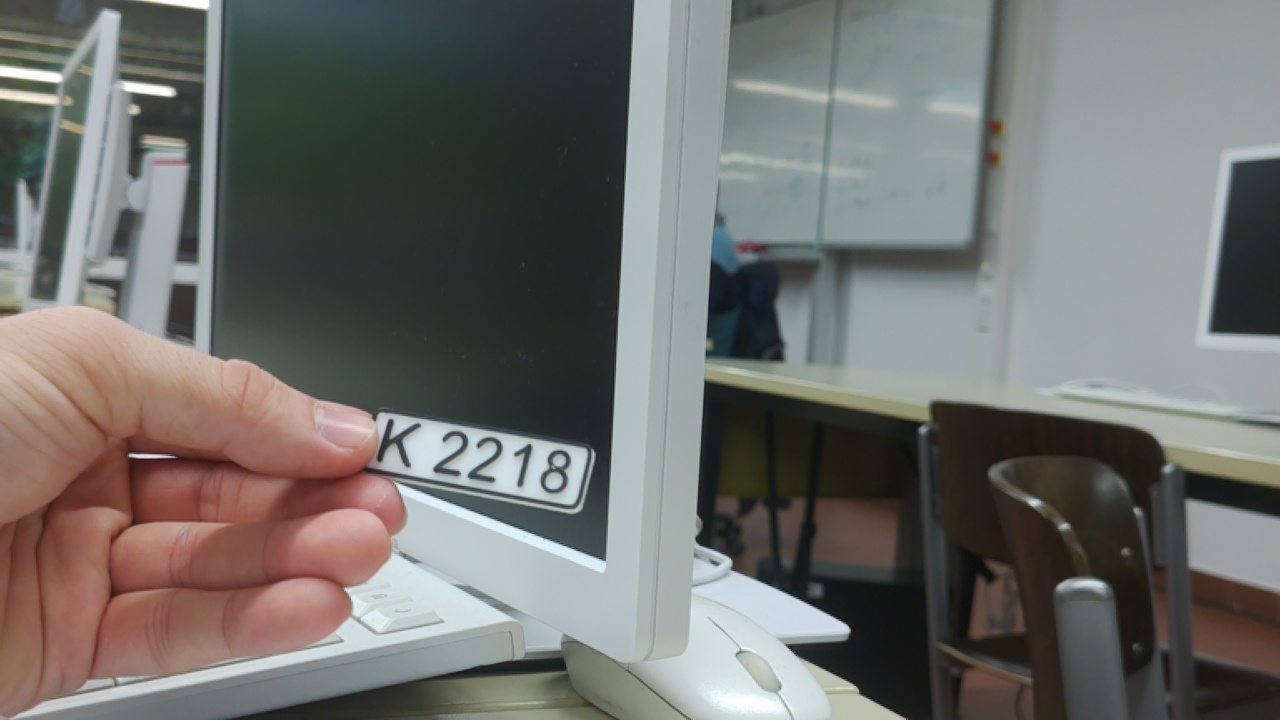license_plate: (355, 404, 602, 523)
